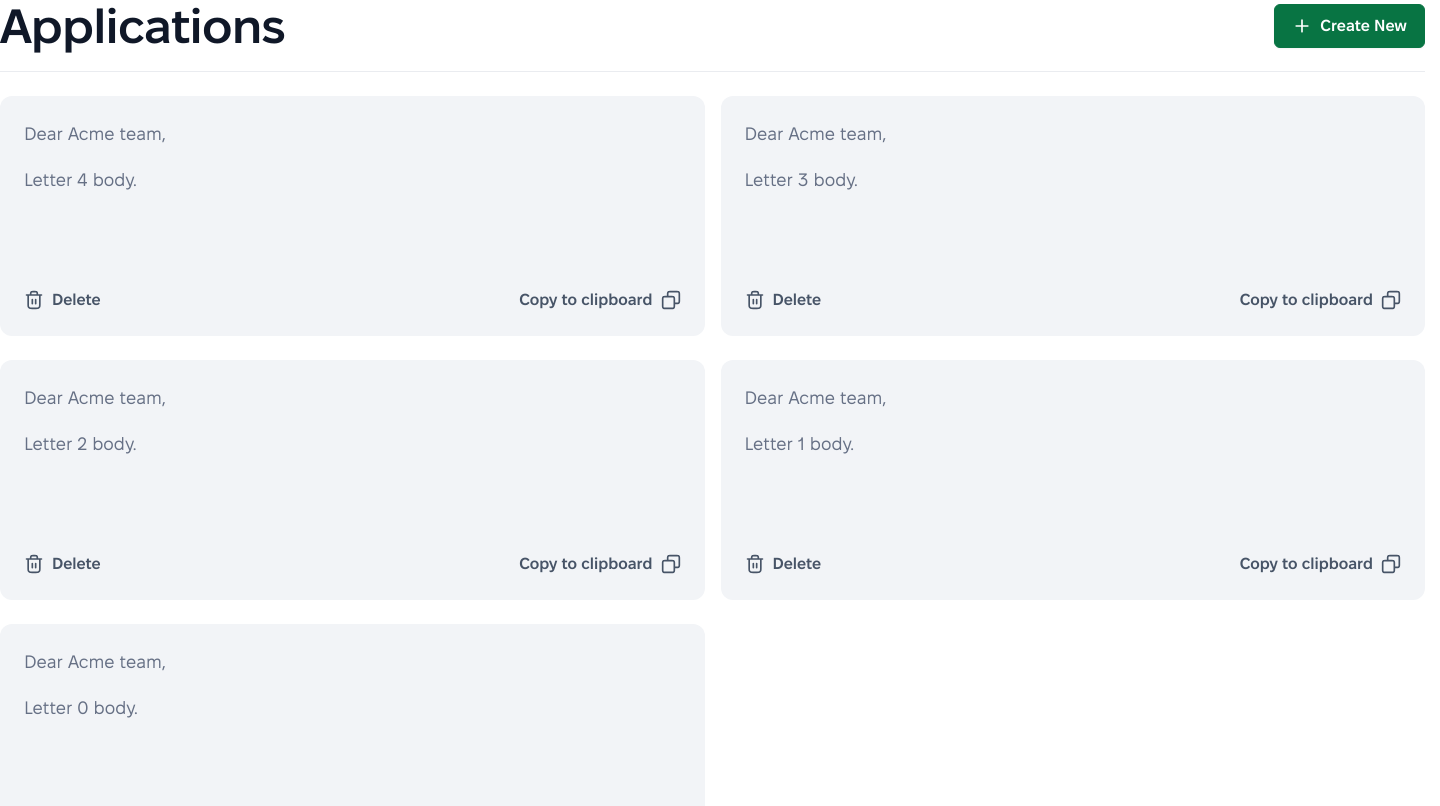
Test case: DashboardPage › lists letters newest first and re-opens the goal when a delete takes the count below it
The image size is (1440, 806).
Expected: the element "Hit your goal" is not shown
Step 1. Click the button "Delete" below "Letter 2 body." → (62, 564), box [24,552,101,576]
(page scrolled)
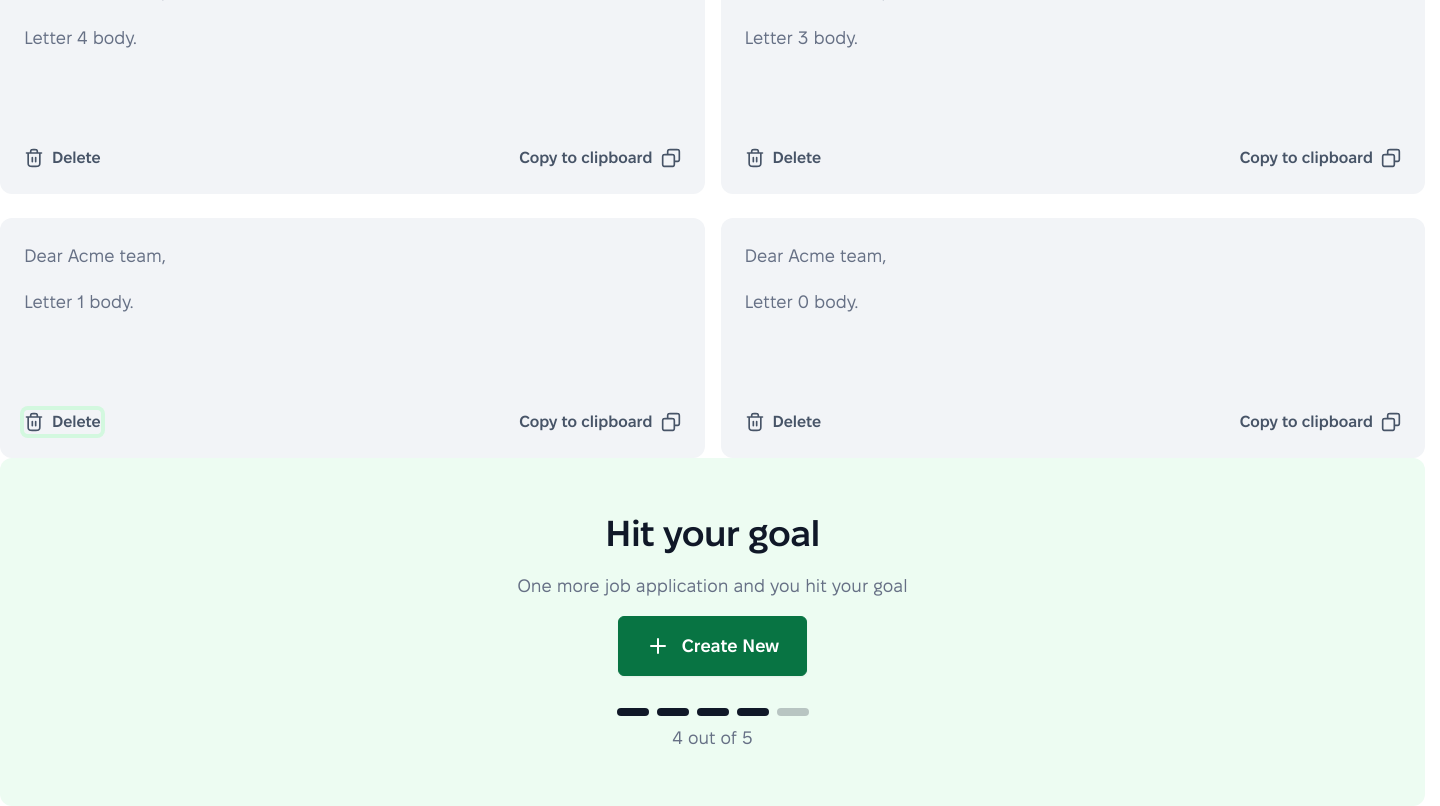
Expected: the element "Hit your goal" shows "4 out of 5", [673,728,752,747]
